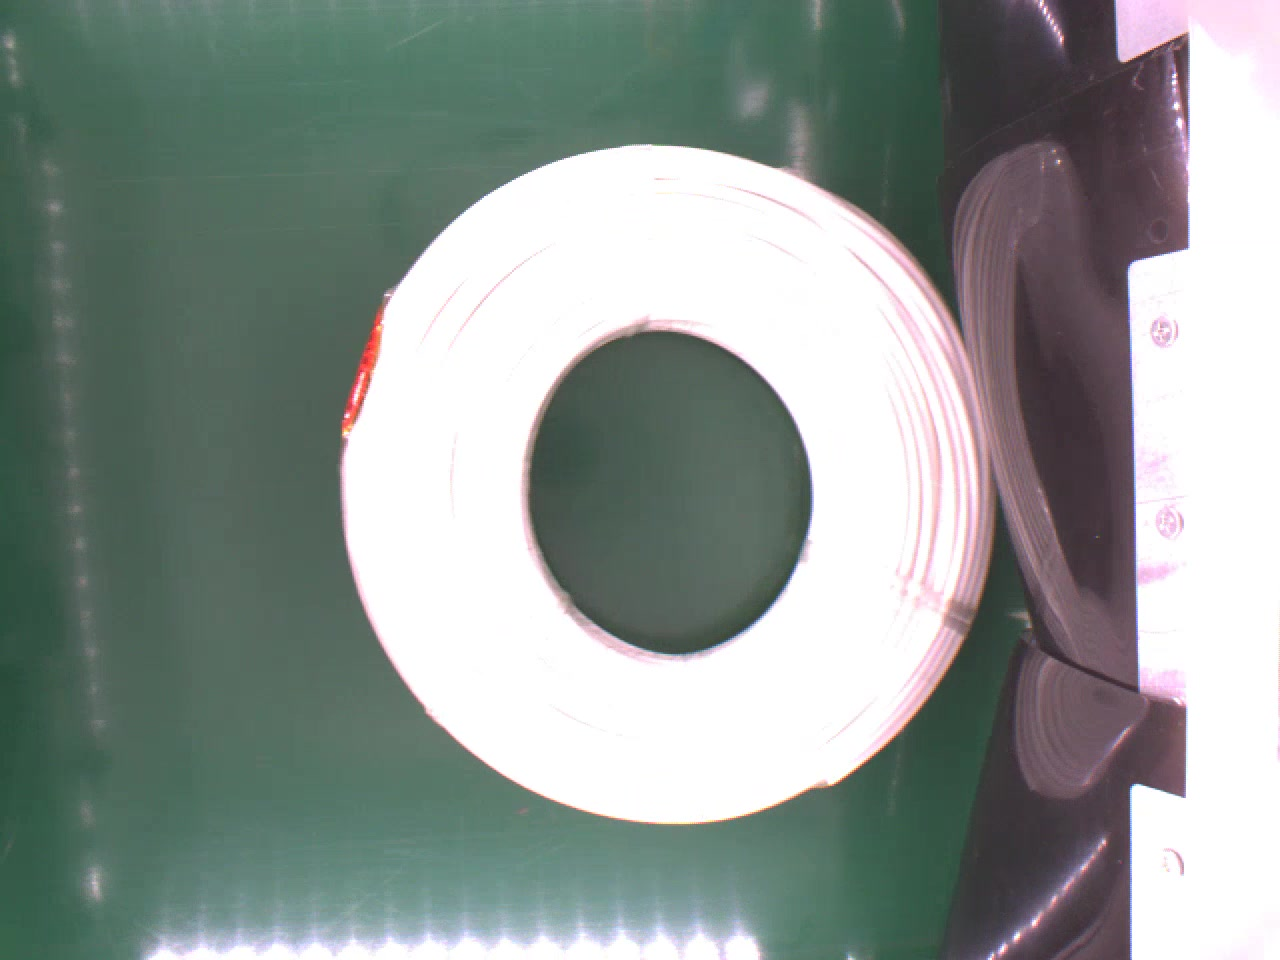white: (335, 143, 995, 831)
